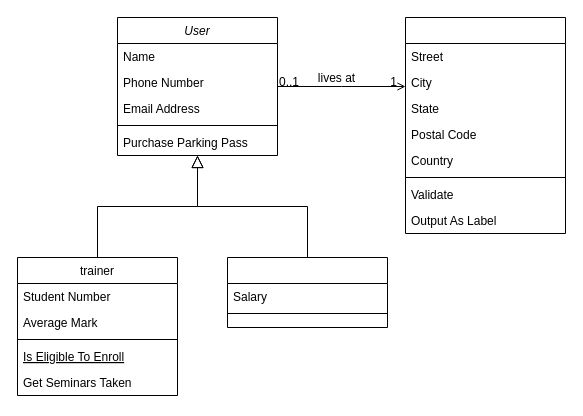
Image size: 583x416. Some labels were removed from this diagram. The shapes that lost their labels are listed below. From the top down, each one's box as (x1, y1, x2, y2) in pixels, then its label:
(404, 16, 566, 234): traine
(226, 256, 388, 328): member
